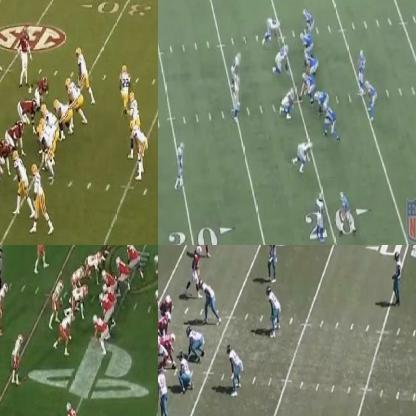CENTER: (101, 270, 117, 298), (42, 105, 59, 131), (302, 73, 314, 102), (163, 332, 176, 358)
DB: (314, 191, 325, 242), (12, 332, 22, 383), (0, 284, 10, 334), (176, 141, 186, 185), (33, 245, 49, 269), (395, 250, 402, 298), (269, 245, 279, 278)
LB: (228, 345, 241, 395), (268, 287, 280, 338), (233, 76, 242, 122), (229, 49, 241, 74), (52, 283, 60, 320), (72, 263, 84, 280)
QB: (126, 90, 138, 119), (358, 50, 364, 95)
SKILL: (31, 163, 53, 234), (129, 121, 148, 177), (14, 151, 30, 213), (189, 247, 203, 295), (18, 25, 29, 85), (338, 189, 352, 233), (366, 81, 379, 123), (76, 48, 89, 84), (119, 62, 129, 106), (300, 7, 316, 31), (34, 76, 50, 98), (64, 401, 87, 415), (151, 289, 157, 334), (201, 245, 213, 257), (153, 252, 157, 271)
